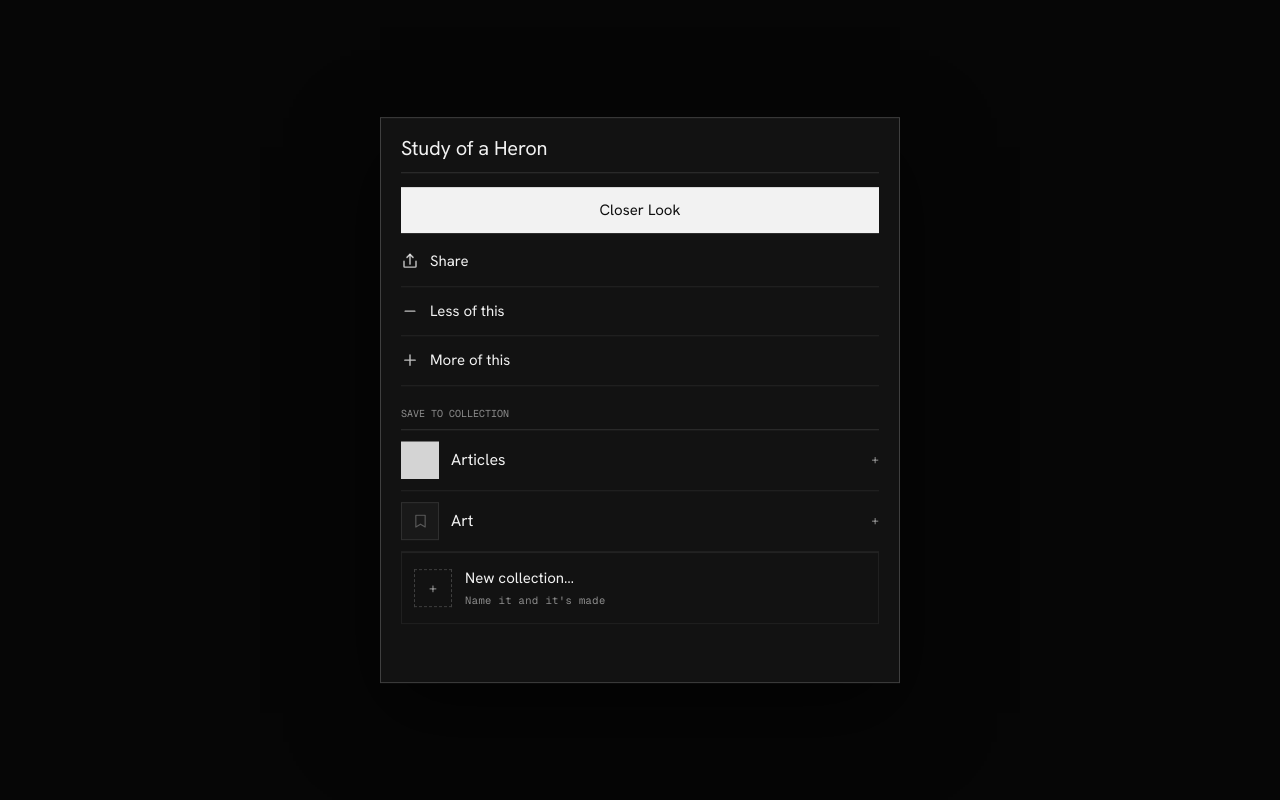
ItemSheet › offers a Share row that opens the share sheet for the item's own page
Click the button "Share".
click(449, 261)  # box [401, 237, 879, 287]
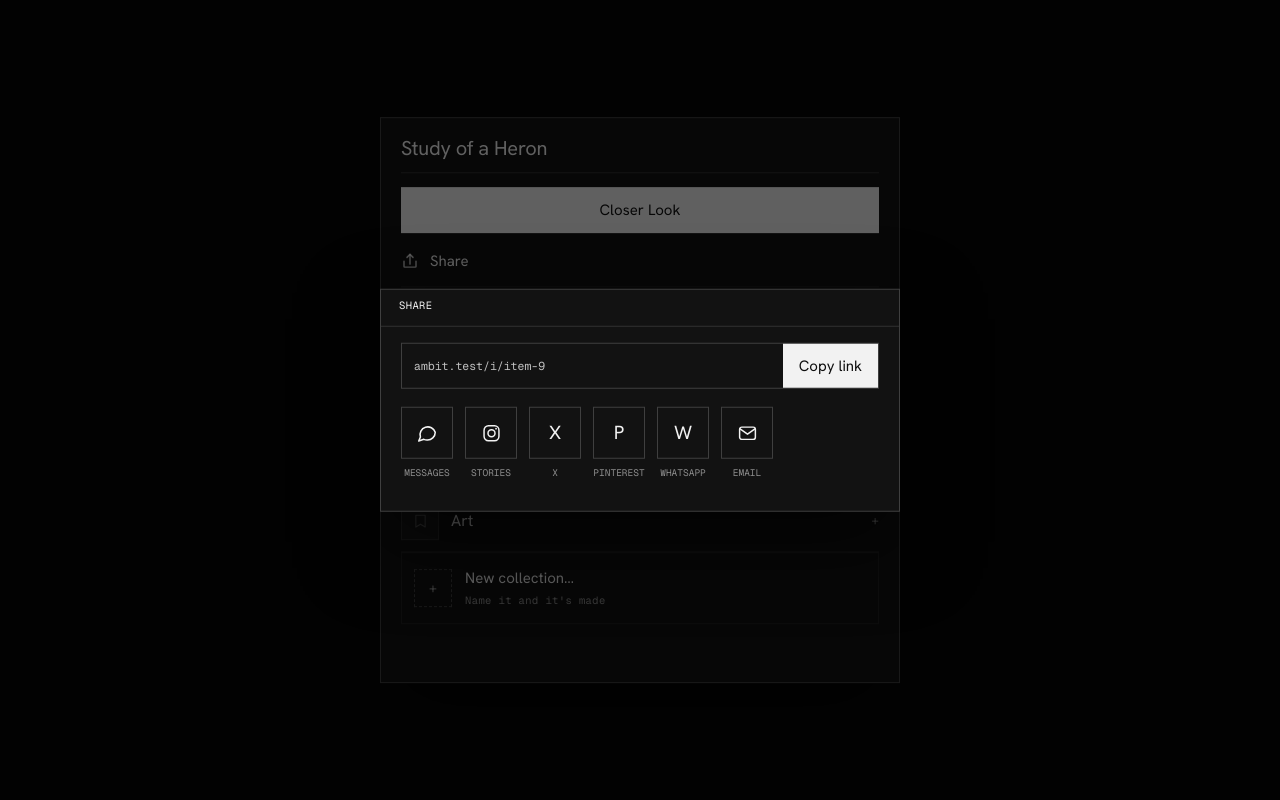
Check: the text "ambit.test/i/item-9" is shown, box [414, 358, 545, 373]
